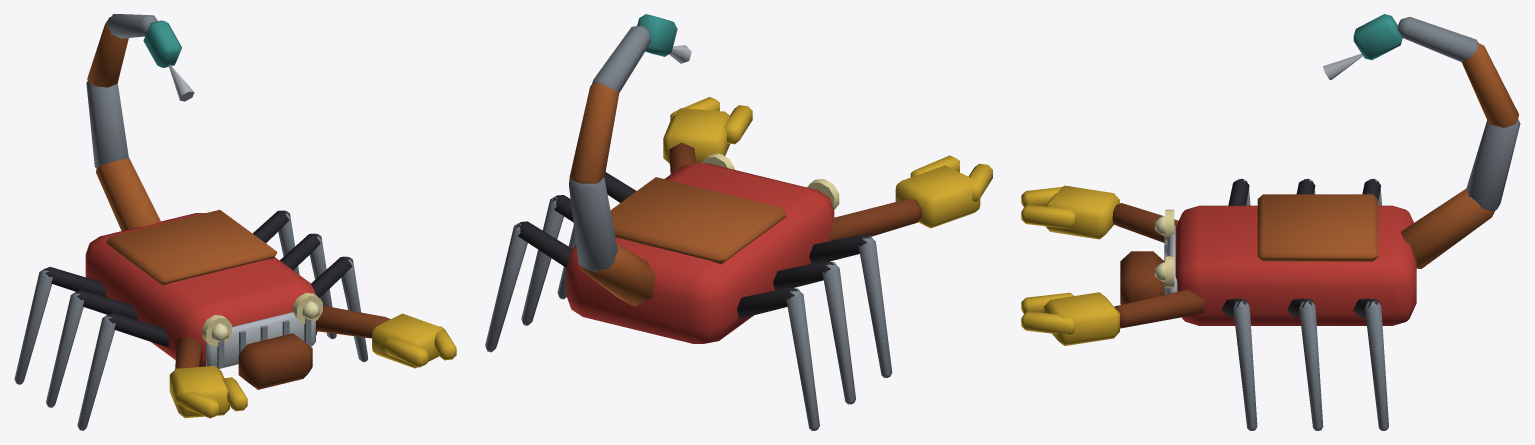
The model's file is e_wueste_skorpion.glb.
The picture shows the model from 3 angles, left to right: view 1: azimuth 30°, elevation 25°; view 2: azimuth 150°, elevation 25°; view 3: azimuth 270°, elevation 25°; orthographic projection. The views are drawn at different scales.
Parts seen in each view (by area): view 1: body; view 2: body; view 3: body.
Part boxes in pixels (left/top/right/bottom): body: left=14, top=14, right=456, bottom=430; body: left=485, top=14, right=992, bottom=430; body: left=1021, top=14, right=1520, bottom=430.
Size of the model in its own units: 3.19 by 3.44 by 4.55.
